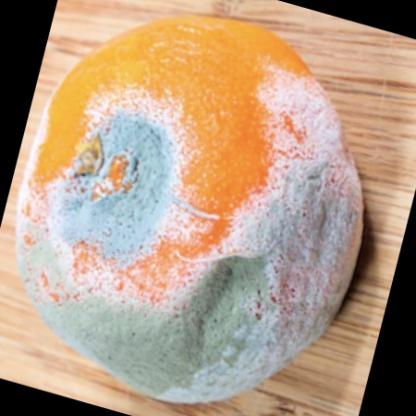rotten: (18, 17, 367, 409)
